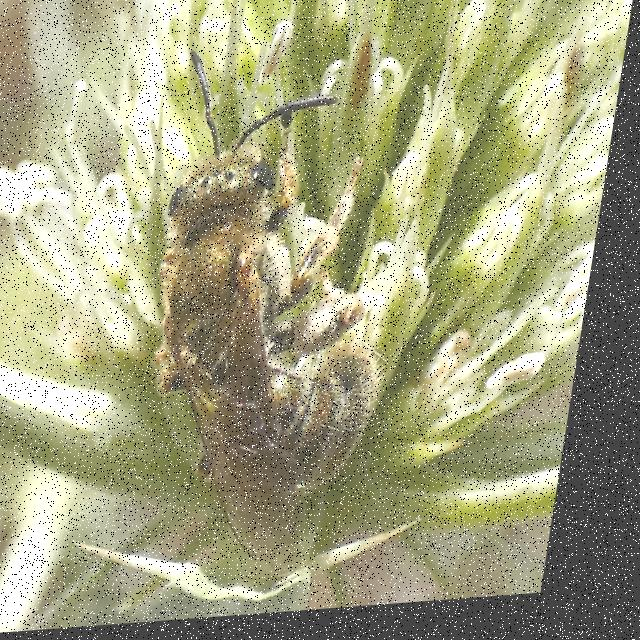Lasioglossum: (111, 29, 456, 577)
